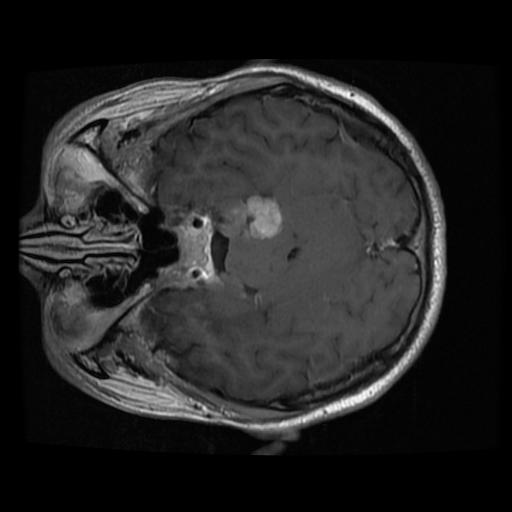meningioma: (244, 194, 279, 237)
